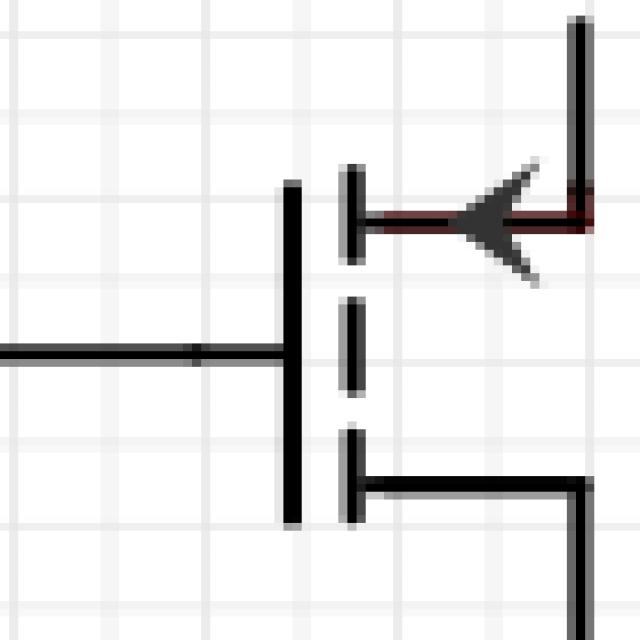pmos: (28, 36, 640, 632)
